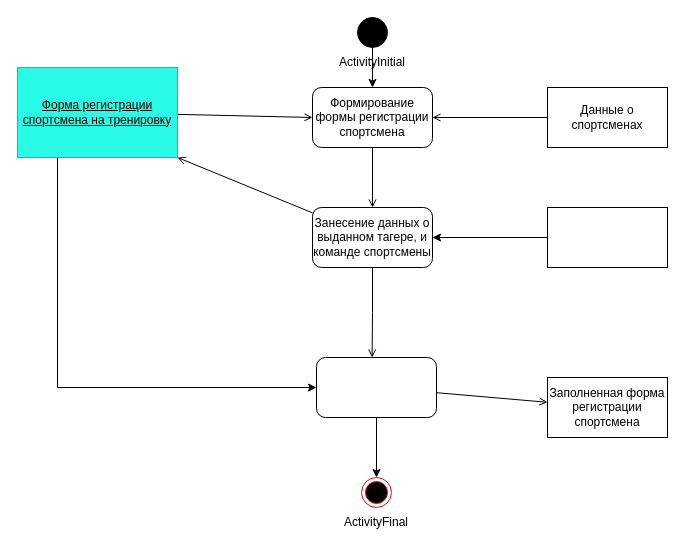
The diagram is 685 pixels wide and 555 high, and some of its shapes have lost their labels. Each missing label, with the centre of its shape:
"Информация о командах, и тагерах" belongs at pixel 607 237.
"Отправка данных на сервер" belongs at pixel 376 387.
